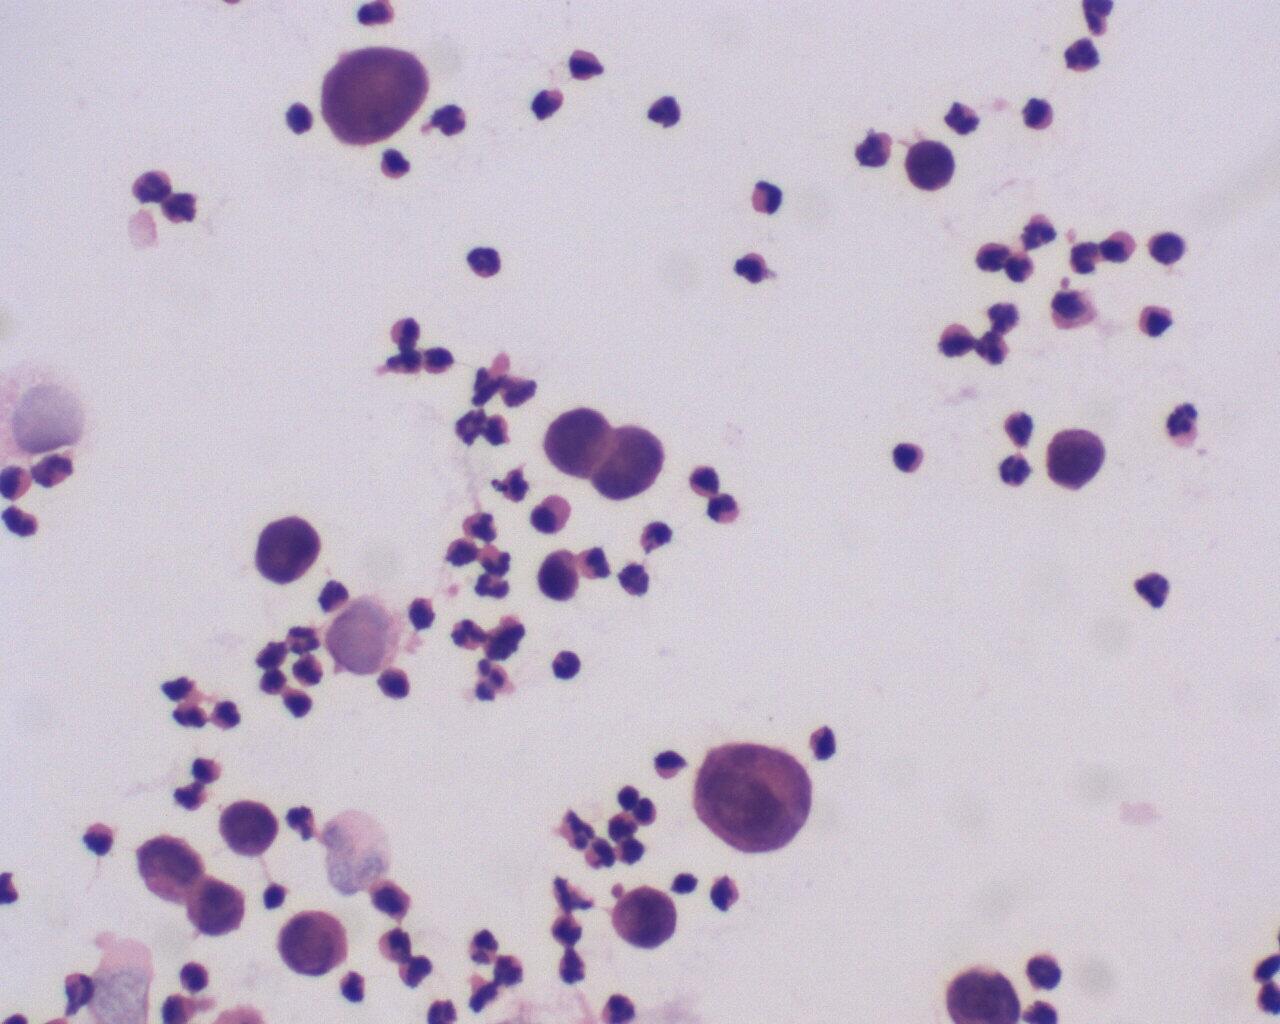ab: (689, 737, 814, 857), (313, 44, 433, 154), (131, 830, 206, 910), (275, 905, 351, 982), (597, 420, 667, 501), (540, 399, 607, 482), (256, 509, 324, 585), (1037, 427, 1109, 498), (213, 798, 294, 860), (613, 882, 677, 957), (189, 875, 250, 944), (900, 136, 957, 195), (534, 548, 581, 605)
lymph: (1146, 228, 1187, 270)
neutro: (1160, 396, 1206, 449), (1130, 565, 1177, 615), (130, 162, 174, 208), (1061, 31, 1101, 79), (1019, 206, 1058, 253), (464, 240, 507, 283), (946, 98, 990, 138), (749, 174, 789, 217), (553, 944, 591, 987), (734, 243, 769, 290), (700, 490, 743, 529), (2, 503, 43, 542), (459, 505, 501, 543), (991, 453, 1032, 492), (445, 613, 486, 652), (974, 327, 1013, 367), (288, 651, 327, 689), (466, 926, 501, 965), (475, 543, 517, 575)
